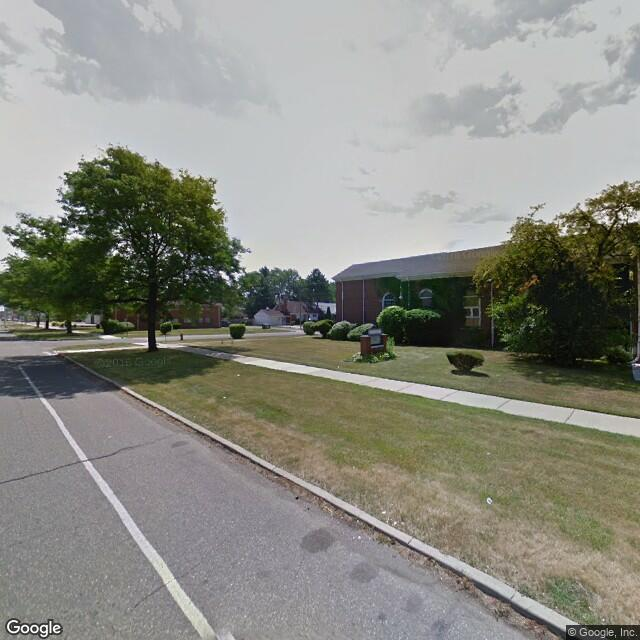litter: (378, 506, 404, 524), (481, 491, 500, 507), (215, 391, 235, 402), (231, 369, 245, 381)
